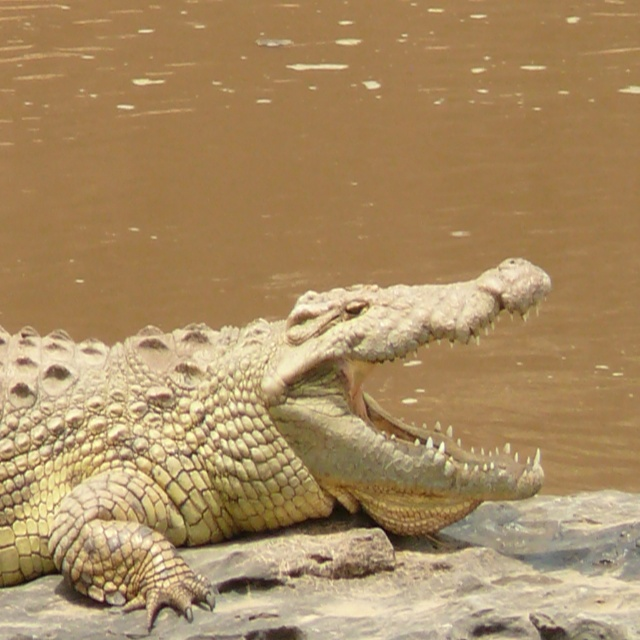Crocodile: (0, 257, 552, 632)
